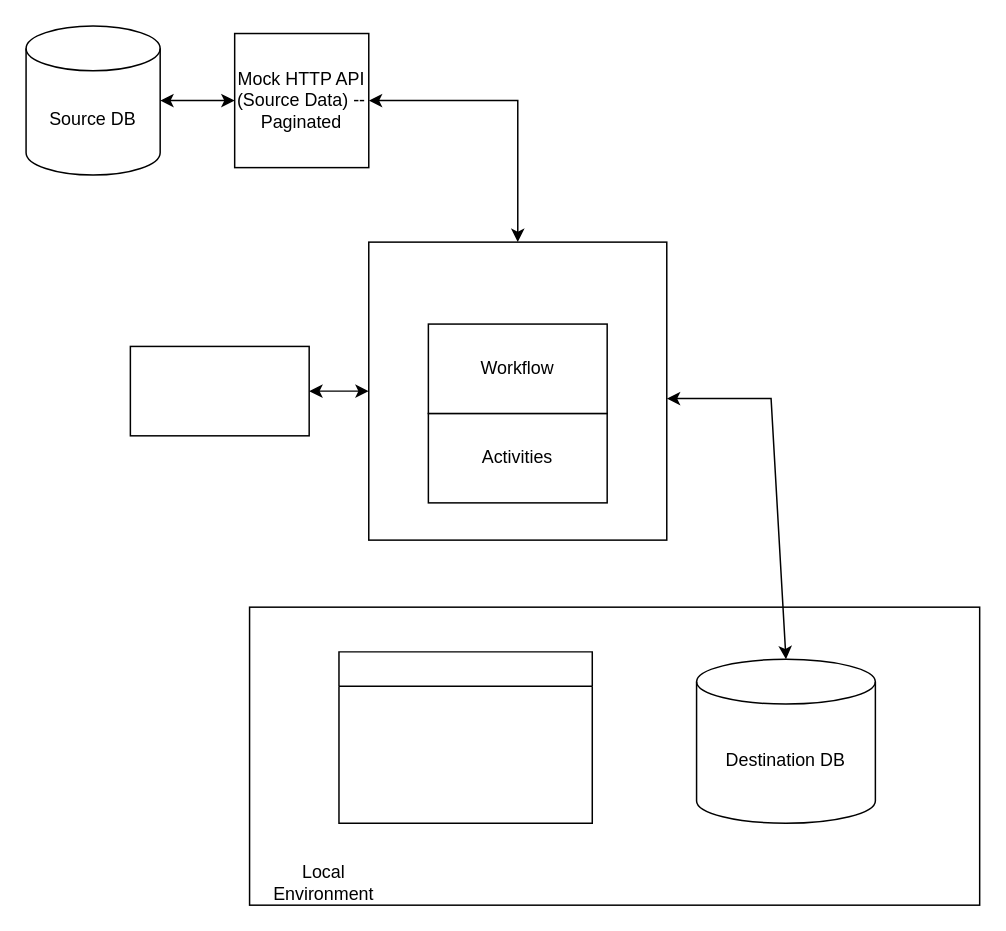
Some shapes in this 1006 by 931 pixel diagram are drawn without their labels. The centre of each missing label's shape, as x and y in pixels:
"CLI Launcher" goes at (x=464, y=736).
"Temporal Server" goes at (x=219, y=390).
